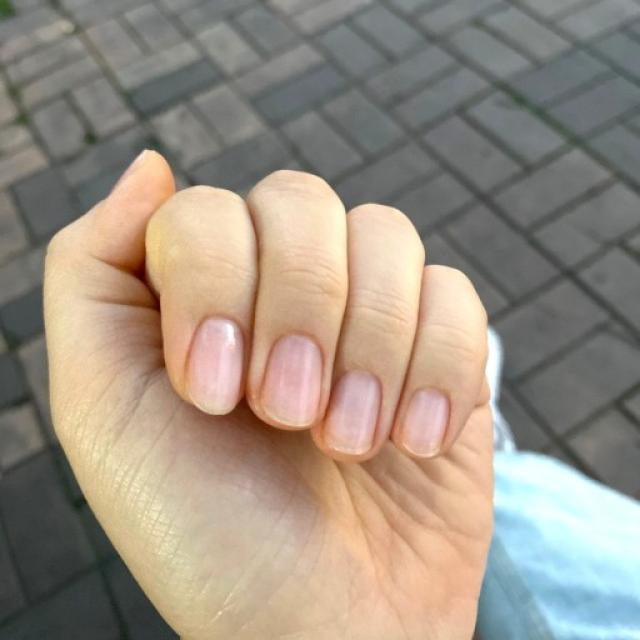Nail: (263, 333, 326, 426), (187, 317, 246, 415), (325, 368, 383, 456), (400, 386, 450, 459)
